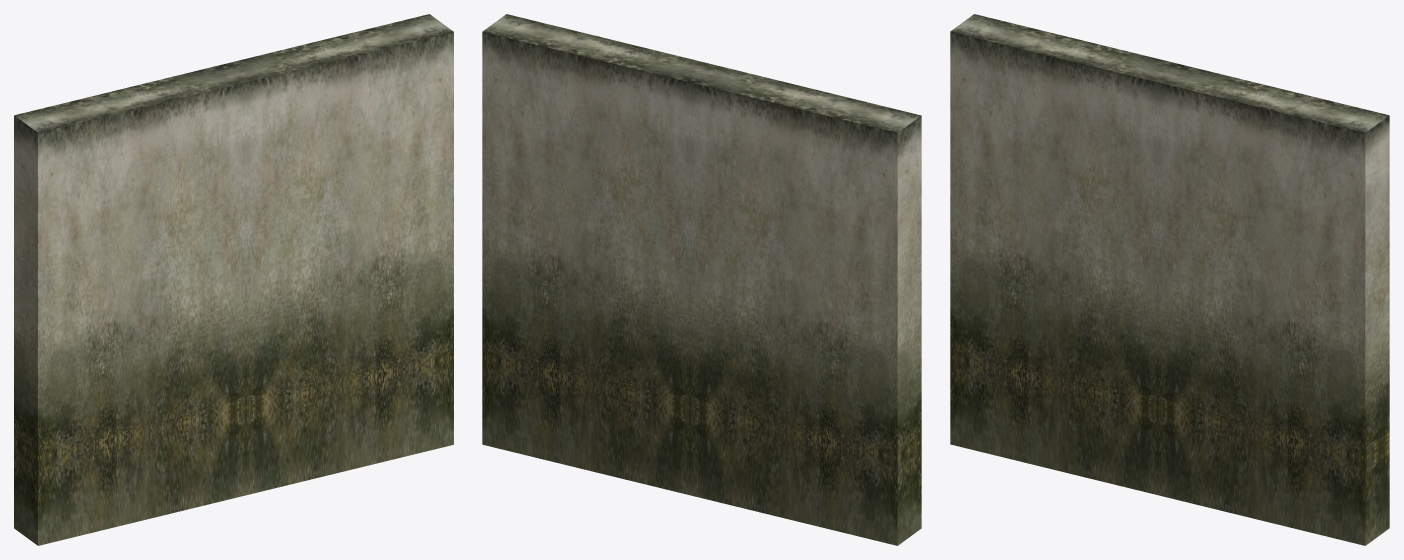
The model's file is TallWallStucco_20.fbx.
3 renders of one model, left to right at view 1: azimuth 30°, elevation 25°; view 2: azimuth 150°, elevation 25°; view 3: azimuth 330°, elevation 25°, orthographic.
Parts seen in each view (by area): view 1: lod_high; view 2: lod_high; view 3: lod_high.
Part boxes in pixels (<box>): lod_high: <box>14,14,453,545</box>; lod_high: <box>482,14,921,545</box>; lod_high: <box>950,14,1389,545</box>.
Size of the model in its own units: 2000 by 1900 by 202.
Materials: 1 (1 with a texture image).
